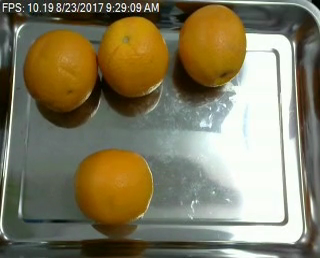Orange: (72, 148, 153, 227), (22, 31, 98, 111), (97, 15, 168, 97), (177, 5, 247, 87)
